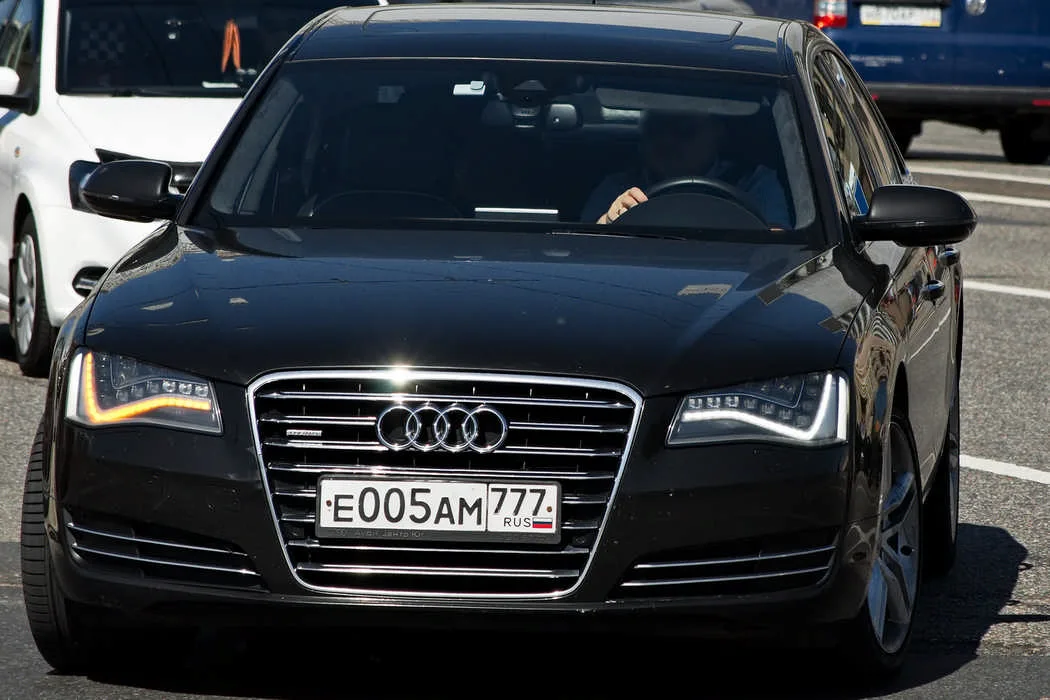number_plate: (320, 483, 552, 537)
